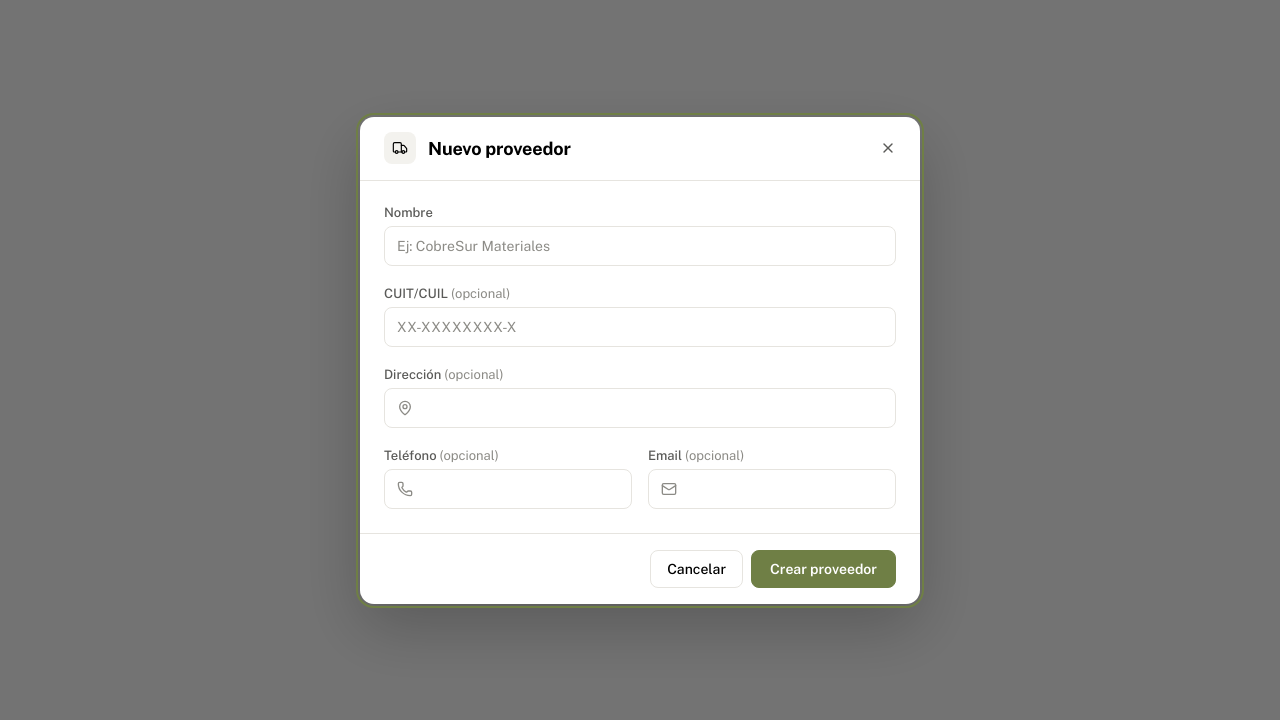
proveedor y producto: errores en cada campo › proveedor con un email mal escrito marca el email
The image size is (1280, 720).
Type "CobreSur" into the field labelled "Nombre" at (640,246), box top-left (384, 226), bottom-right (896, 266)
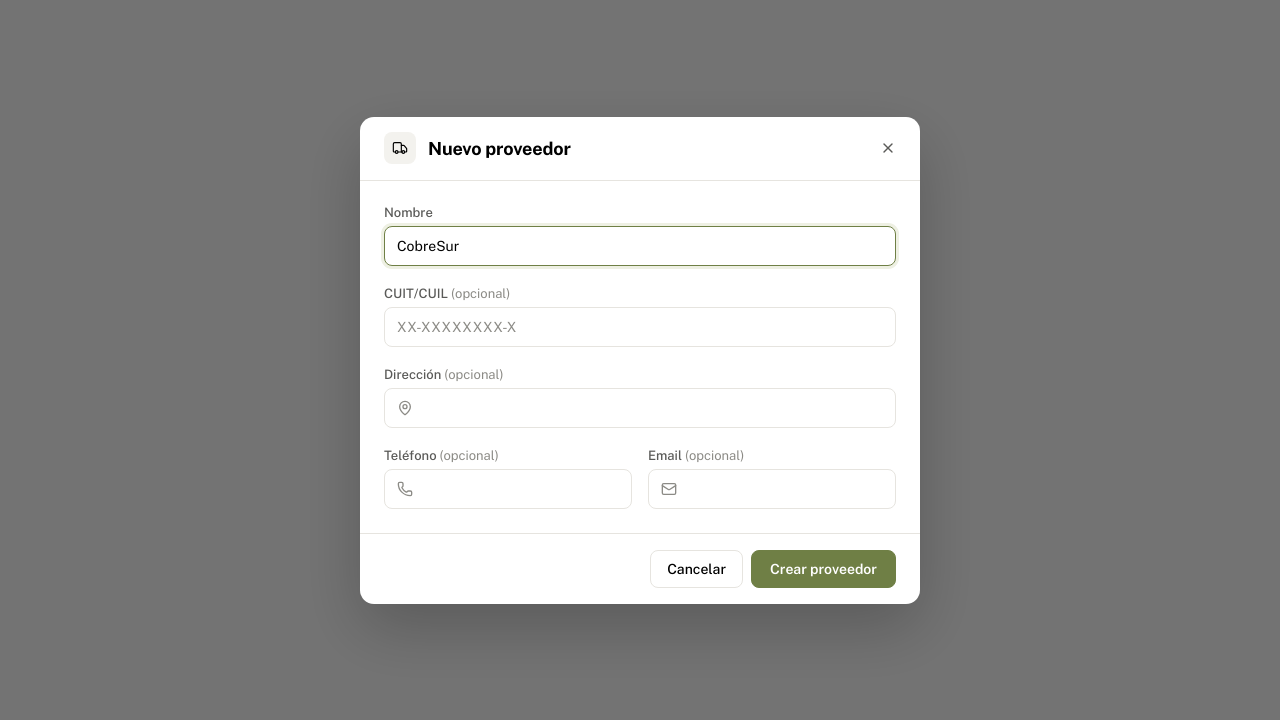
Type "ventas@cobresur" into the field labelled "Email (opcional)" at (784,488), box top-left (685, 470), bottom-right (883, 508)
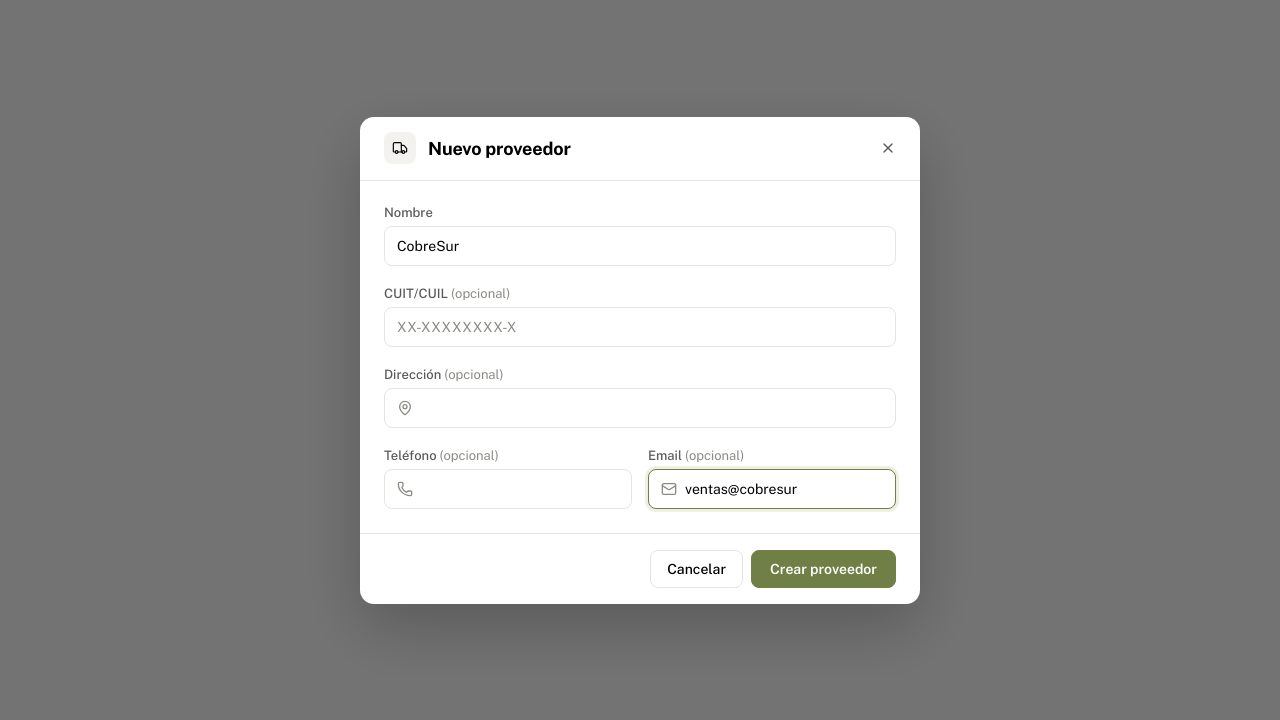
Click the button "Crear proveedor" at (824,568), box top-left (751, 550), bottom-right (896, 588)
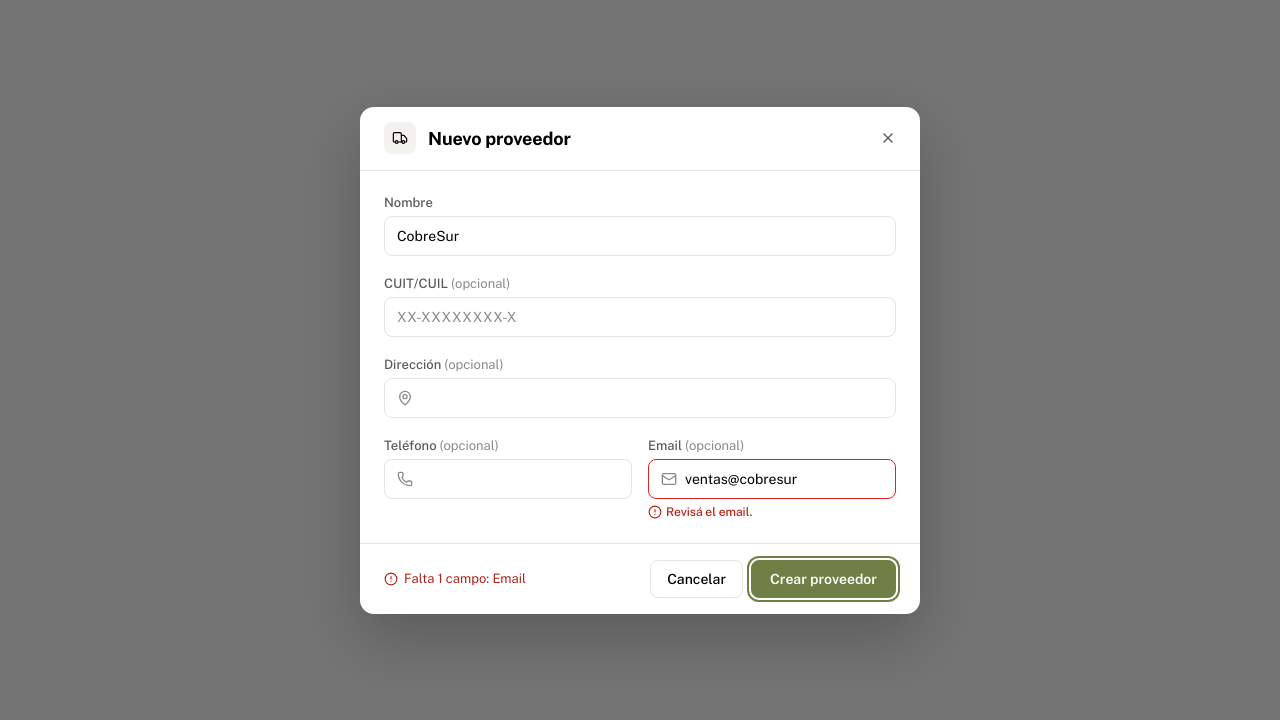
Result: the text "Revisá el email." is shown at top-left (648, 504), bottom-right (752, 518)
